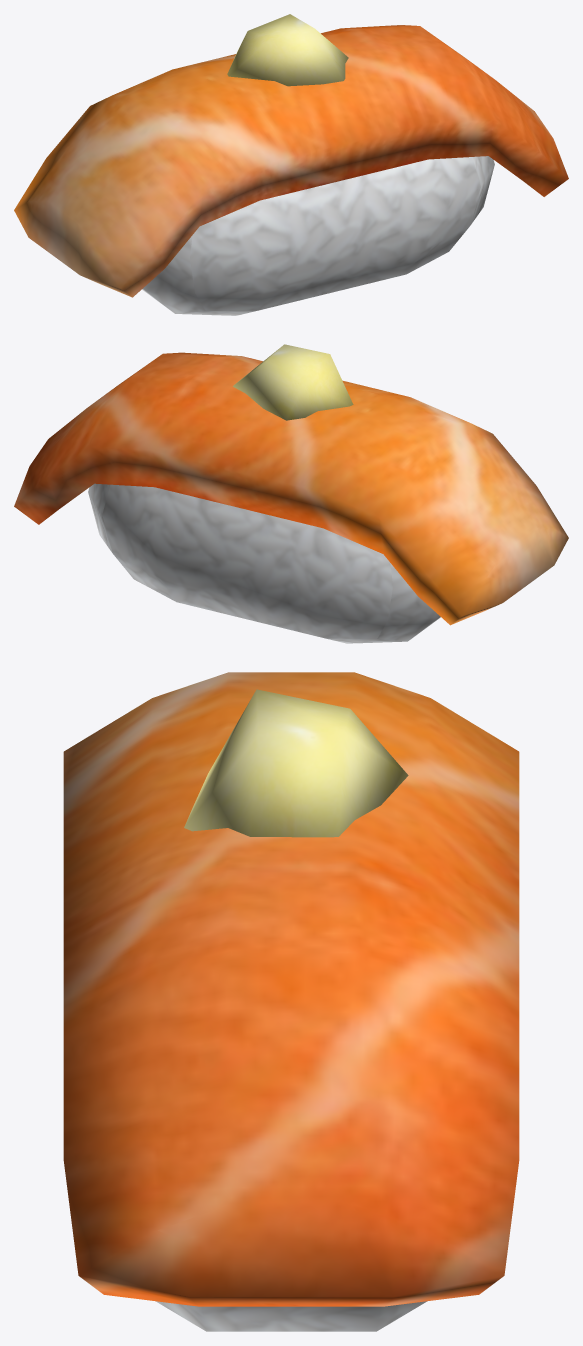
Rendered from salmon_3.fbx.
3 views of the same model, one above another, from view 1: azimuth 30°, elevation 25°; view 2: azimuth 150°, elevation 25°; view 3: azimuth 270°, elevation 25° (orthographic). The views are drawn at different scales.
Parts seen in each view (by area): view 1: salmon_3; view 2: salmon_3; view 3: salmon_3.
Part boxes in pixels (bbox=[...]): salmon_3: bbox=[14, 14, 568, 315]; salmon_3: bbox=[14, 344, 568, 643]; salmon_3: bbox=[63, 672, 519, 1331].
Size of the model in its own units: 7.62 by 3.91 by 3.17.
